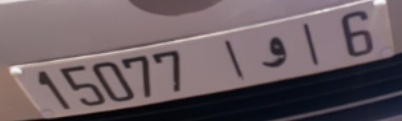0: (92, 61, 135, 102)
1: (36, 70, 68, 112)
5: (60, 65, 102, 109)
6: (338, 9, 378, 60)
7: (118, 54, 152, 96), (152, 48, 183, 93)
waw: (258, 32, 289, 71)
